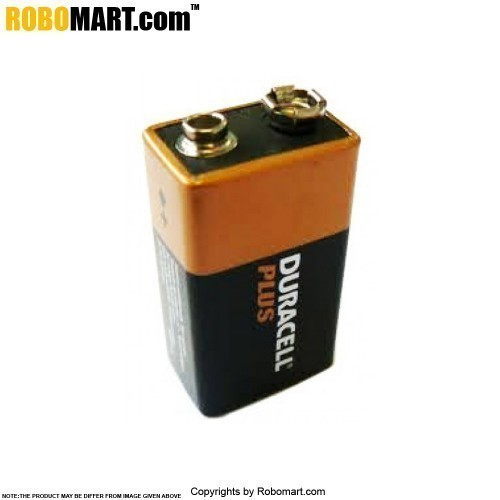9V: (138, 82, 363, 420)
